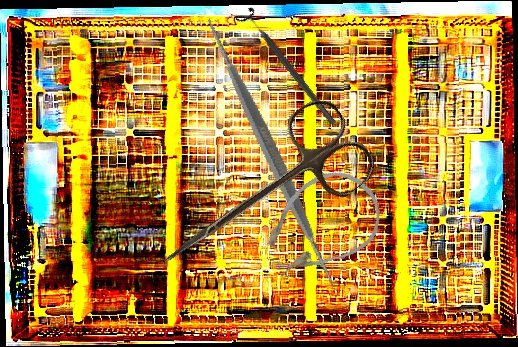Cannula: (244, 155, 396, 296)
Fixation Ring: (234, 5, 343, 131)
Iris Scissors: (139, 91, 382, 305)
Spatula Surgical: (120, 1, 422, 306)
